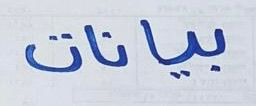alef: (136, 17, 162, 74)
noon: (101, 29, 130, 70)
teh: (23, 25, 83, 79)
teh_marbota: (85, 22, 100, 68)
yeh: (164, 26, 199, 81), (201, 21, 231, 76)
